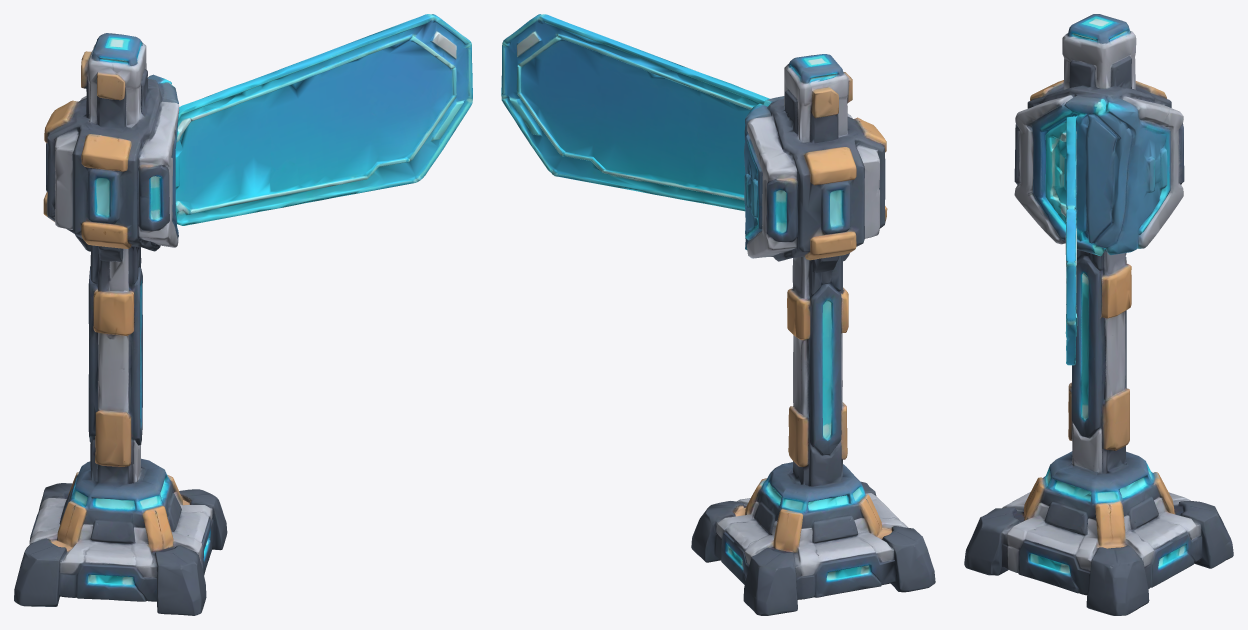
Rendered from holosign.glb.
3 renders of one model, left to right at view 1: azimuth 30°, elevation 25°; view 2: azimuth 150°, elevation 25°; view 3: azimuth 270°, elevation 25°, orthographic. The views are drawn at different scales.
Parts seen in each view (by area): view 1: tripo_node_b6dfdcdf-2152-44ad-b899-fc620ebdb2d8; view 2: tripo_node_b6dfdcdf-2152-44ad-b899-fc620ebdb2d8; view 3: tripo_node_b6dfdcdf-2152-44ad-b899-fc620ebdb2d8.
Part boxes in pixels (x1,y1,x2,y2): tripo_node_b6dfdcdf-2152-44ad-b899-fc620ebdb2d8: (14,14,472,615); tripo_node_b6dfdcdf-2152-44ad-b899-fc620ebdb2d8: (501,14,935,615); tripo_node_b6dfdcdf-2152-44ad-b899-fc620ebdb2d8: (964,14,1233,615).
Bounding box in the file's own units: 0.8973 × 1 × 0.4552.
1 material, 1 textured.
